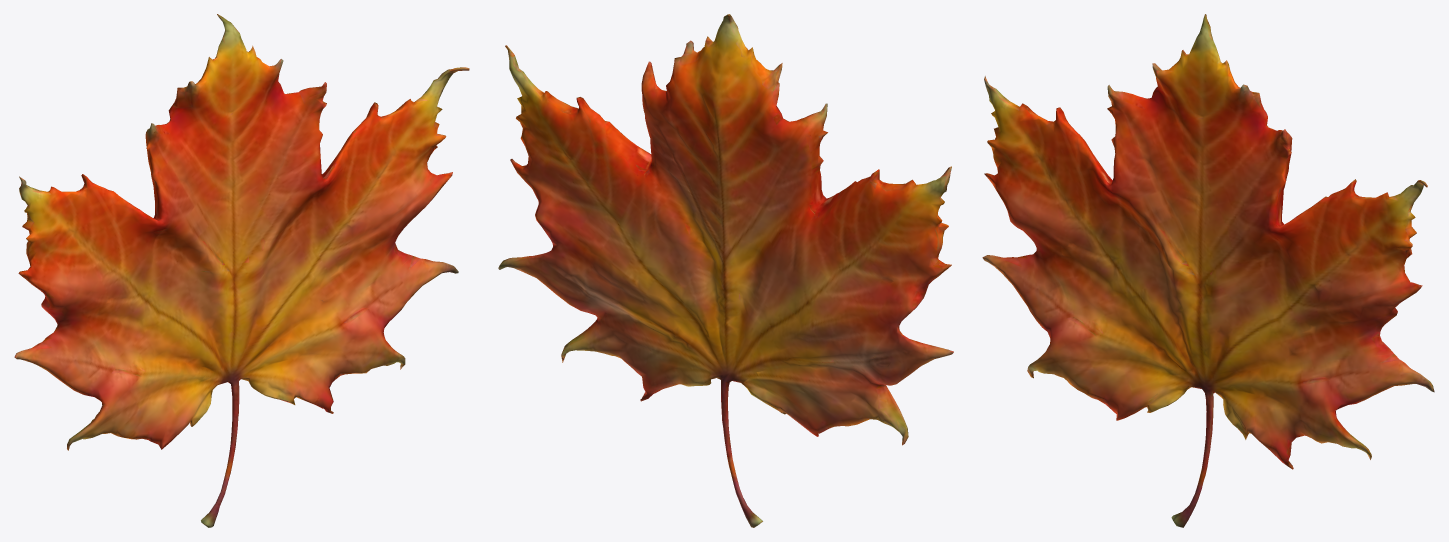
3 views of the same model, side by side, from view 1: azimuth 30°, elevation 25°; view 2: azimuth 150°, elevation 25°; view 3: azimuth 330°, elevation 25° (orthographic). The views are drawn at different scales.
Visible parts, largest first — view 1: Mesh1.0; view 2: Mesh1.0; view 3: Mesh1.0.
Part boxes in pixels (<box>): Mesh1.0: <box>14,14,469,527</box>; Mesh1.0: <box>498,14,953,527</box>; Mesh1.0: <box>982,14,1434,527</box>.
Bounding box in the file's own units: 1.77 × 1.91 × 0.1791.
1 material, 1 textured.
